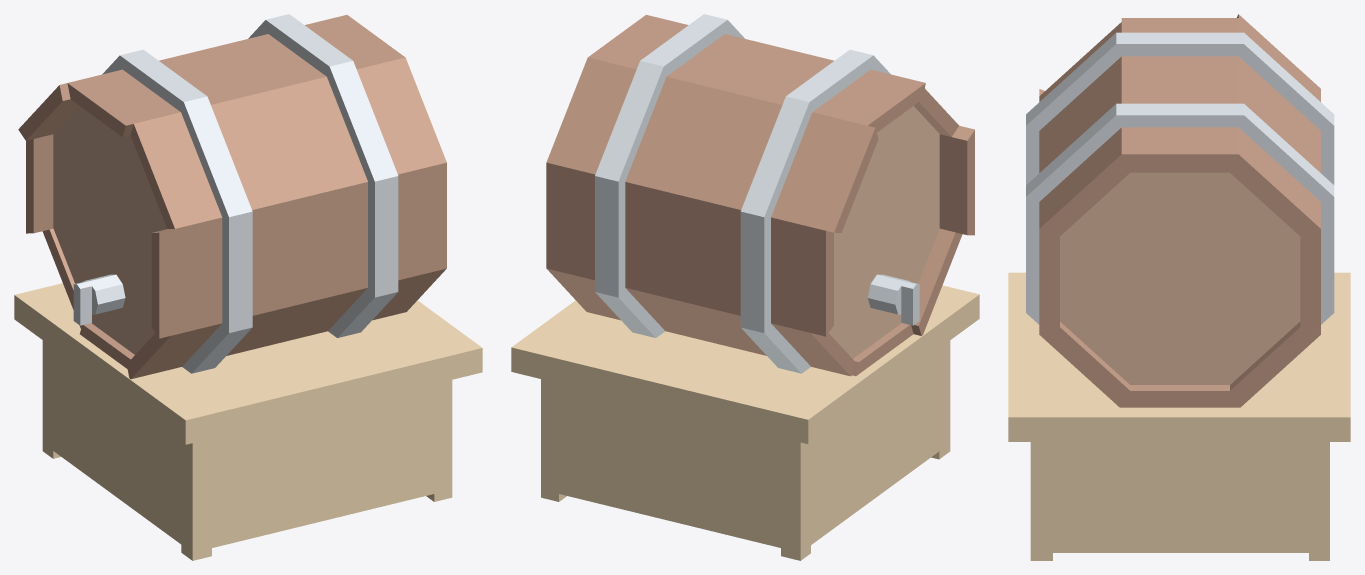
The model's file is barrel_tap.fbx.
3 renders of one model, left to right at view 1: azimuth 30°, elevation 25°; view 2: azimuth 150°, elevation 25°; view 3: azimuth 270°, elevation 25°, orthographic.
Visible parts, largest first — view 1: barrel; view 2: barrel; view 3: barrel.
Boxes of the visible parts, <box> form: barrel: <box>14,14,482,560</box>; barrel: <box>511,14,979,560</box>; barrel: <box>1008,14,1350,560</box>.
Bounding box in the file's own units: 215 × 270 × 200.
